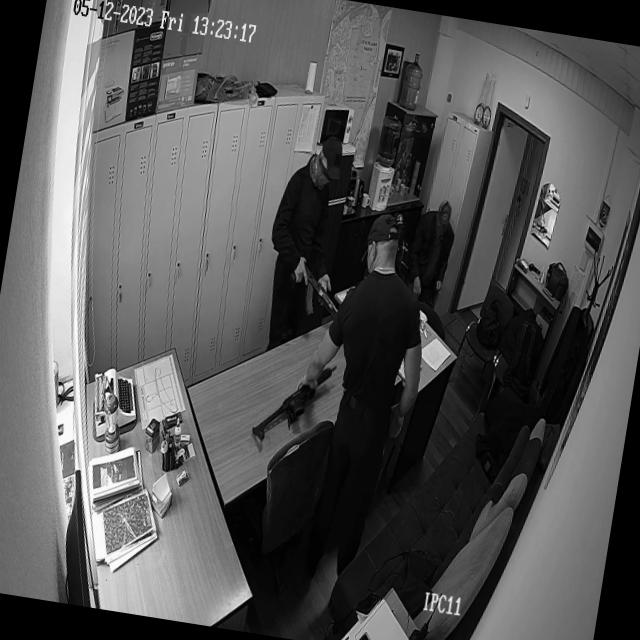gun: (247, 330, 340, 454), (280, 236, 348, 322)
person: (412, 176, 461, 261)
person with a gun: (308, 192, 452, 531), (254, 128, 350, 336)
